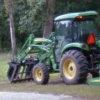Tractor: (12, 9, 100, 96)
